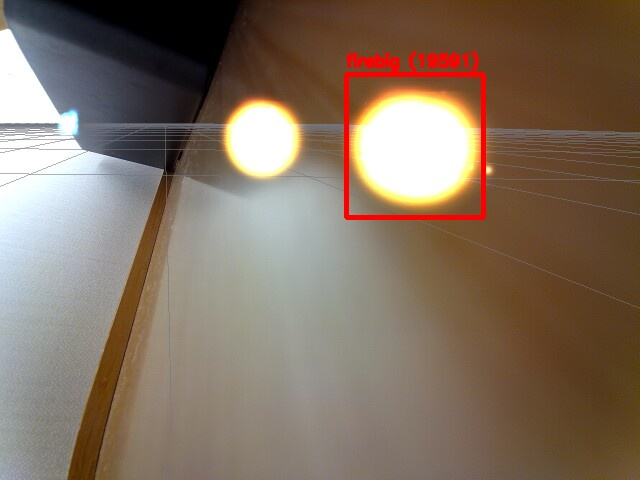firebig: (346, 74, 483, 217)
